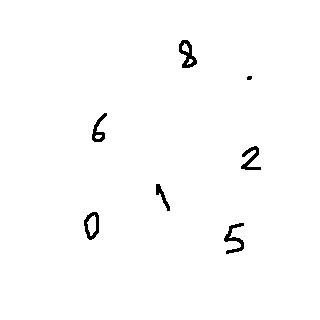.: (236, 65, 263, 91)
0: (80, 204, 112, 244)
1: (151, 177, 179, 227)
2: (237, 134, 276, 184)
5: (221, 217, 251, 259)
6: (87, 108, 119, 146)
8: (172, 34, 204, 80)
